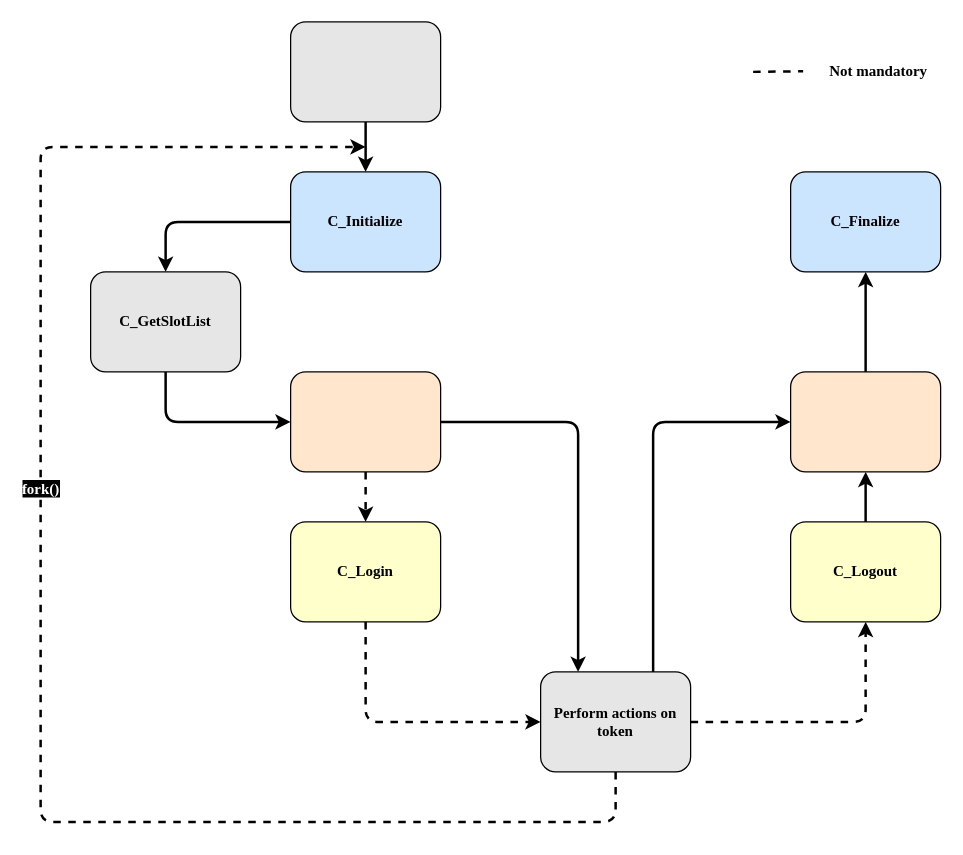
Some shapes in this 963 by 855 pixel diagram are drawn without their labels. Each missing label, with the centre of its shape:
"C_CloseSession" goes at (865,421).
"C_GetFunctionList" goes at (365,71).
"C_OpenSession" goes at (365,421).
